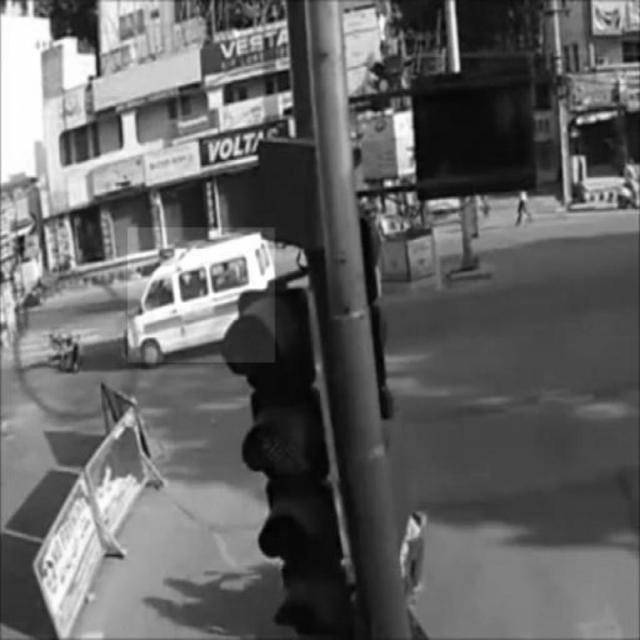vehicle: (128, 228, 275, 362)
